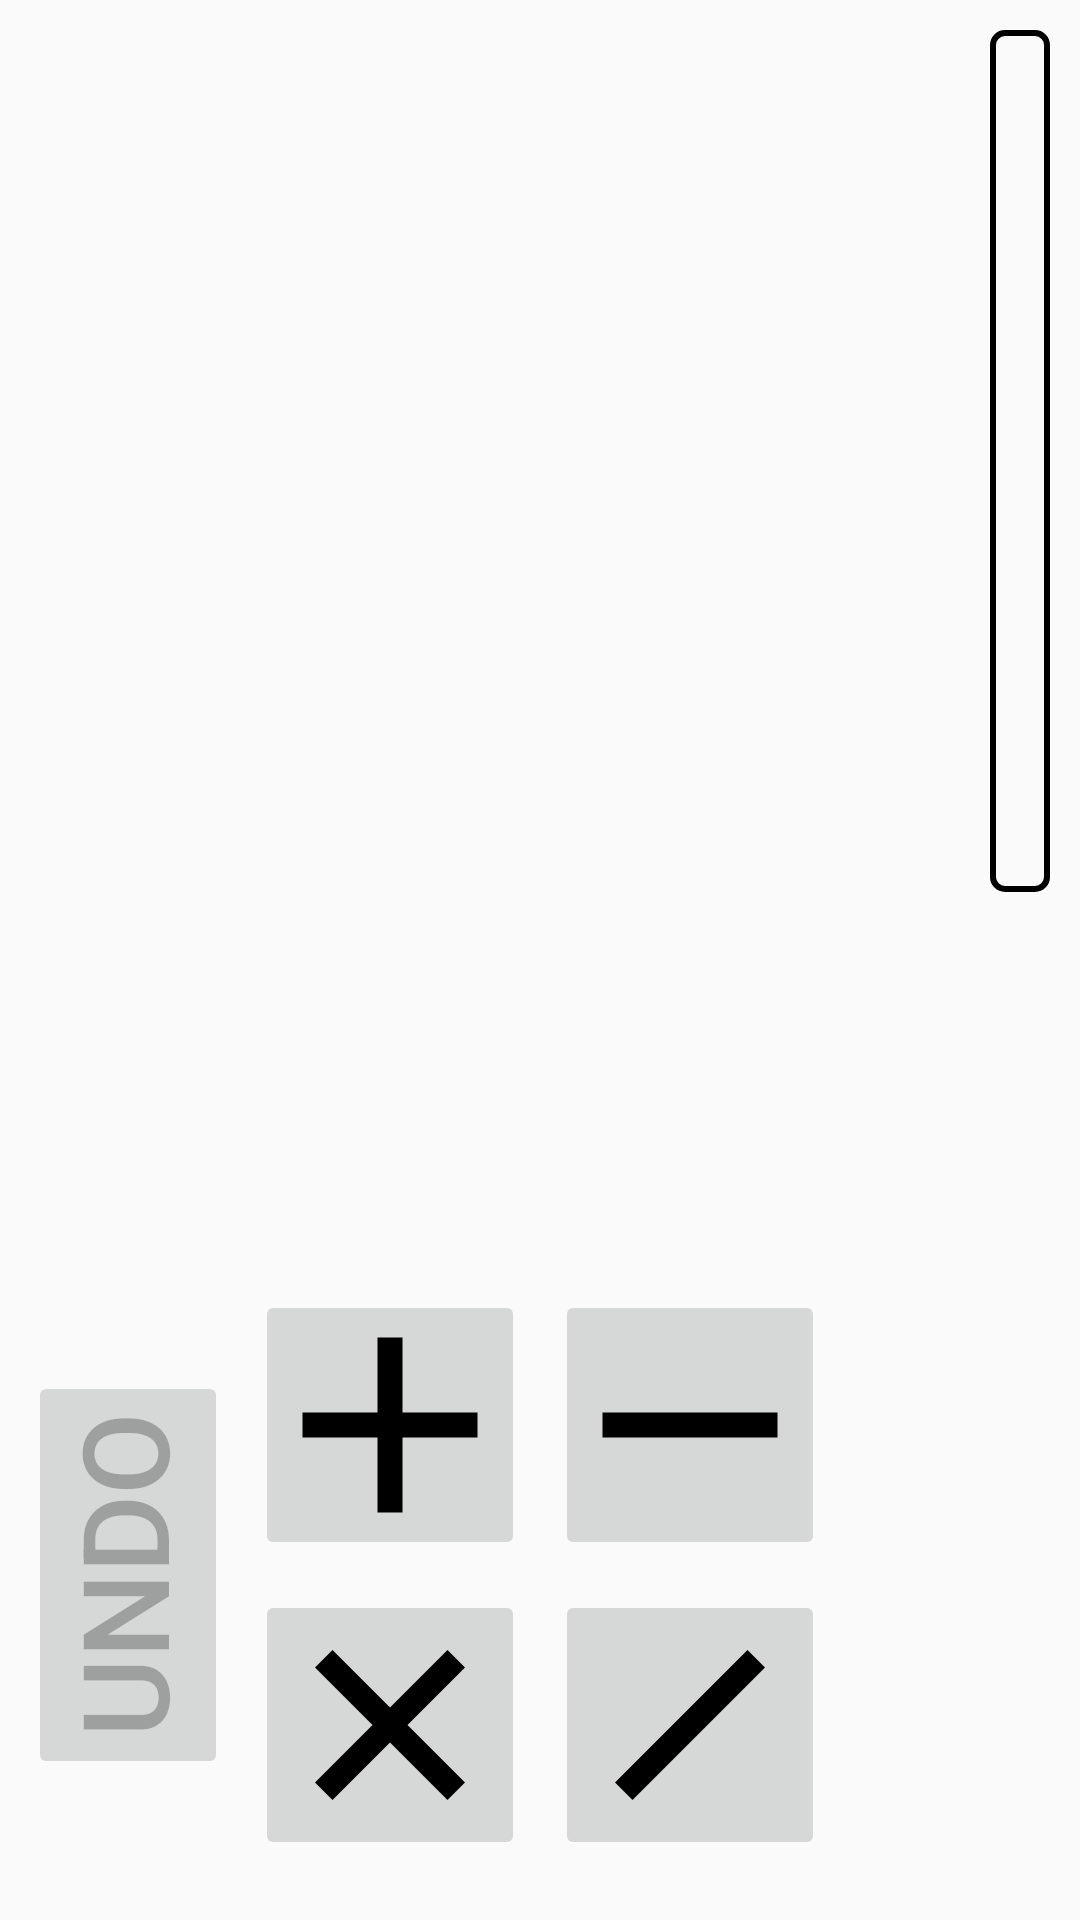

Icons on this 1080 × 1920 Android screen, each with its box as (x1, y1, x2, y2):
divide: (567, 1608, 813, 1842)
minus: (567, 1308, 813, 1542)
multiply: (267, 1608, 513, 1842)
plus: (267, 1308, 513, 1542)
